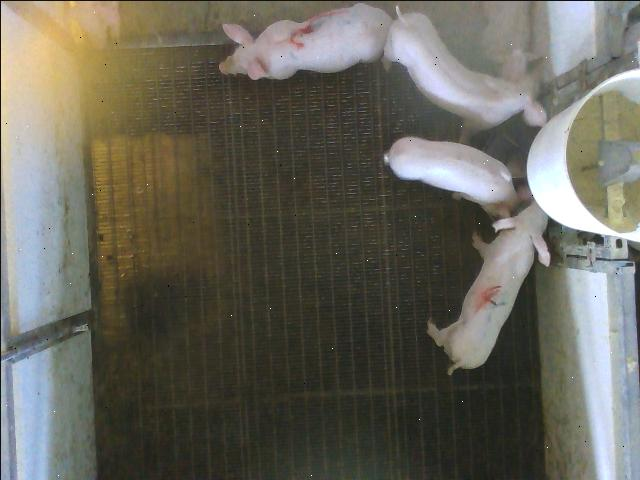pig-3: (219, 3, 391, 79)
pig-4: (426, 201, 549, 372)
